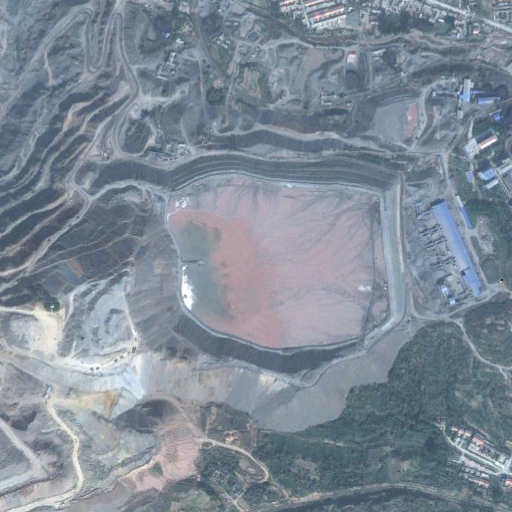tp: (165, 155, 405, 386)
